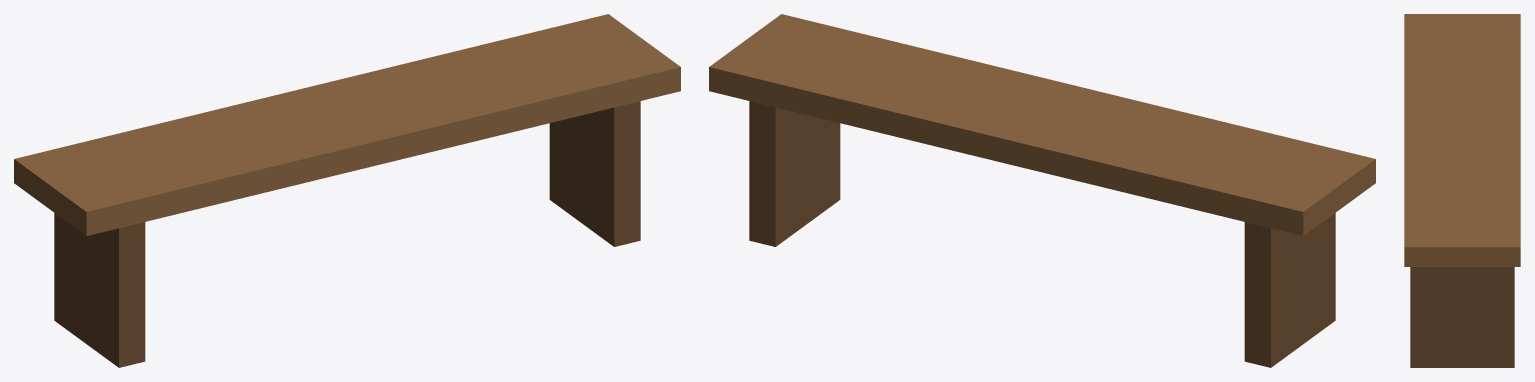
The model's file is Yard_Bench.obj.
The picture shows the model from 3 angles, left to right: view 1: azimuth 30°, elevation 25°; view 2: azimuth 150°, elevation 25°; view 3: azimuth 270°, elevation 25°; orthographic projection. The views are drawn at different scales.
Parts seen in each view (by area): view 1: Yard_Bench; view 2: Yard_Bench; view 3: Yard_Bench.
Boxes of the visible parts, x1,y1,x2,y2 form: Yard_Bench: [14, 14, 680, 367]; Yard_Bench: [709, 14, 1375, 367]; Yard_Bench: [1404, 14, 1520, 367].
Bounding box in the file's own units: 1.8 × 0.485 × 0.38.
